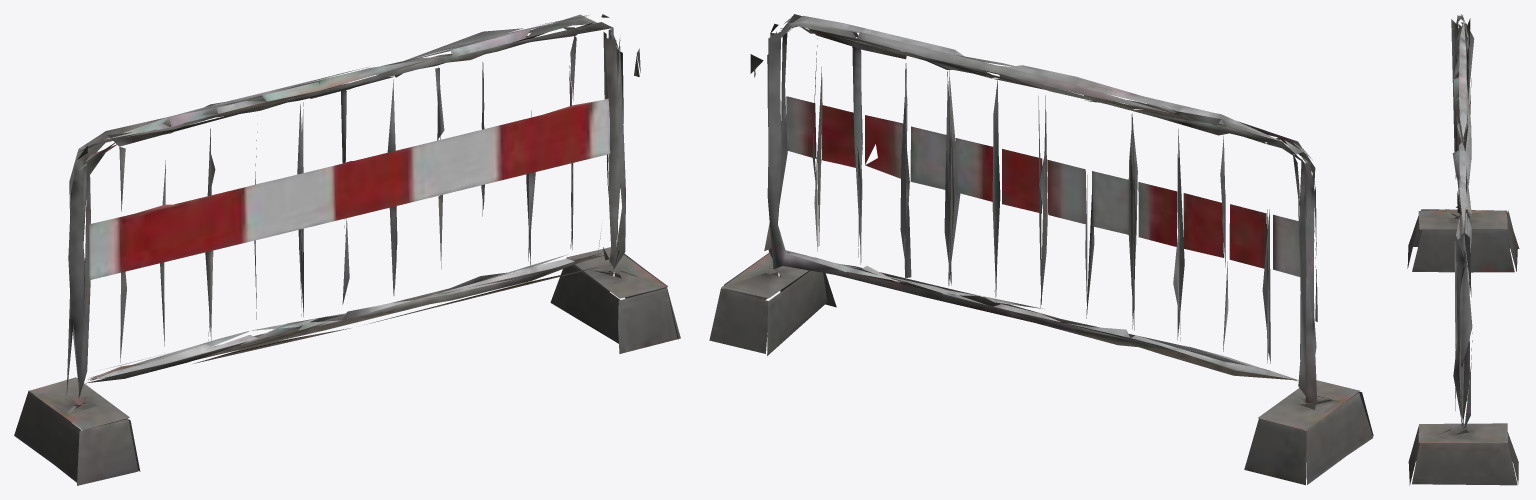
File: stadt_absperrung_lo.glb
3 views of the same model, side by side, from view 1: azimuth 30°, elevation 25°; view 2: azimuth 150°, elevation 25°; view 3: azimuth 270°, elevation 25° (orthographic). The views are drawn at different scales.
Visible parts, largest first — view 1: Prop; view 2: Prop; view 3: Prop.
Part boxes in pixels (<box>): Prop: <box>14,14,680,485</box>; Prop: <box>709,14,1373,485</box>; Prop: <box>1407,14,1519,485</box>.
Bounding box in the file's own units: 1.99 × 1.02 × 0.4029.
Materials: 1 (1 with a texture image).
